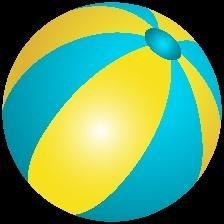Sports-Ball: (3, 0, 224, 223)
